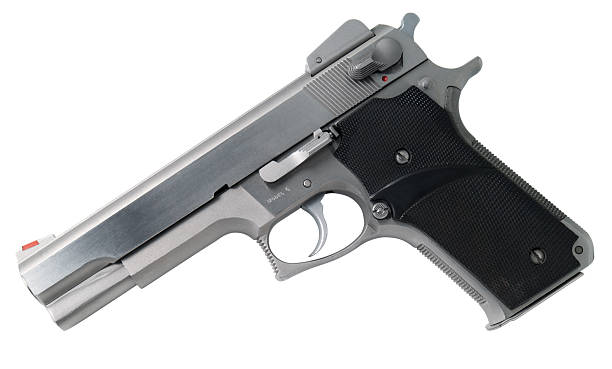pistol: (15, 5, 596, 349)
